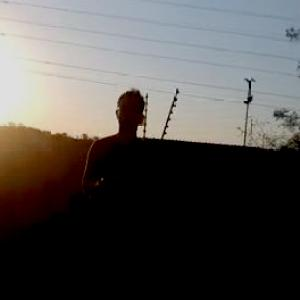follow: (76, 83, 160, 299)
